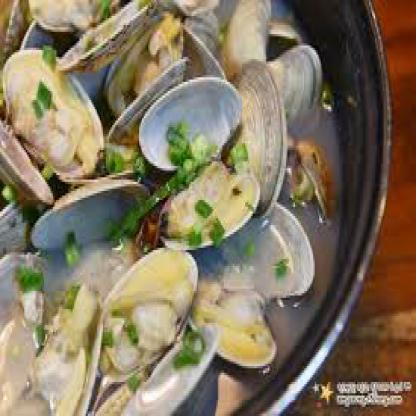shellfish soup: (1, 0, 346, 414)
